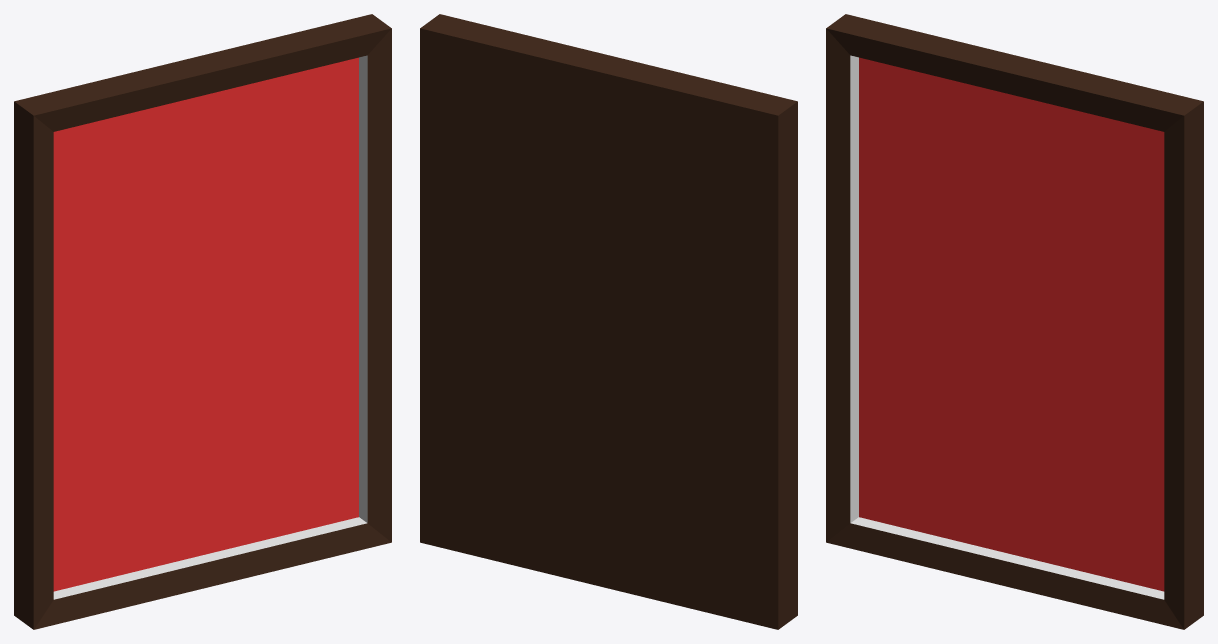
File: Pciture Frame.fbx
The picture shows the model from 3 angles, left to right: view 1: azimuth 30°, elevation 25°; view 2: azimuth 150°, elevation 25°; view 3: azimuth 330°, elevation 25°; orthographic projection.
Visible parts, largest first — view 1: Frame; view 2: Frame; view 3: Frame.
Boxes of the visible parts, bbox=[...] form: Frame: bbox=[14, 14, 391, 629]; Frame: bbox=[420, 14, 797, 629]; Frame: bbox=[826, 14, 1203, 629].
Size of the model in its own units: 23.89 by 32.78 by 2.27.
